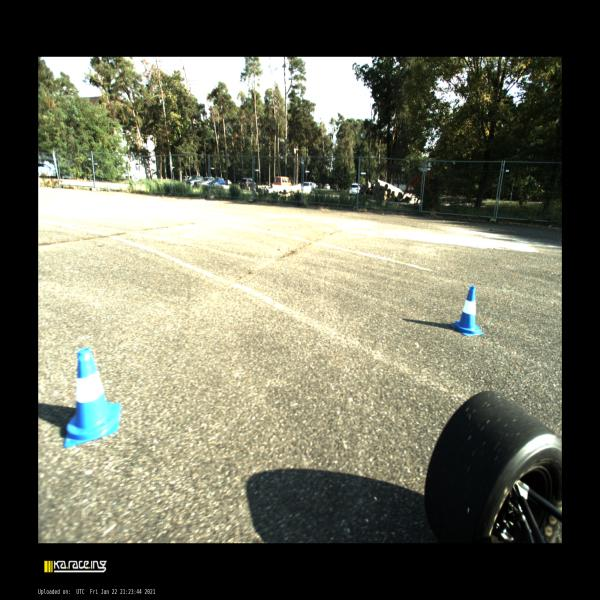blue_cone: (63, 347, 120, 448), (450, 286, 484, 336)
